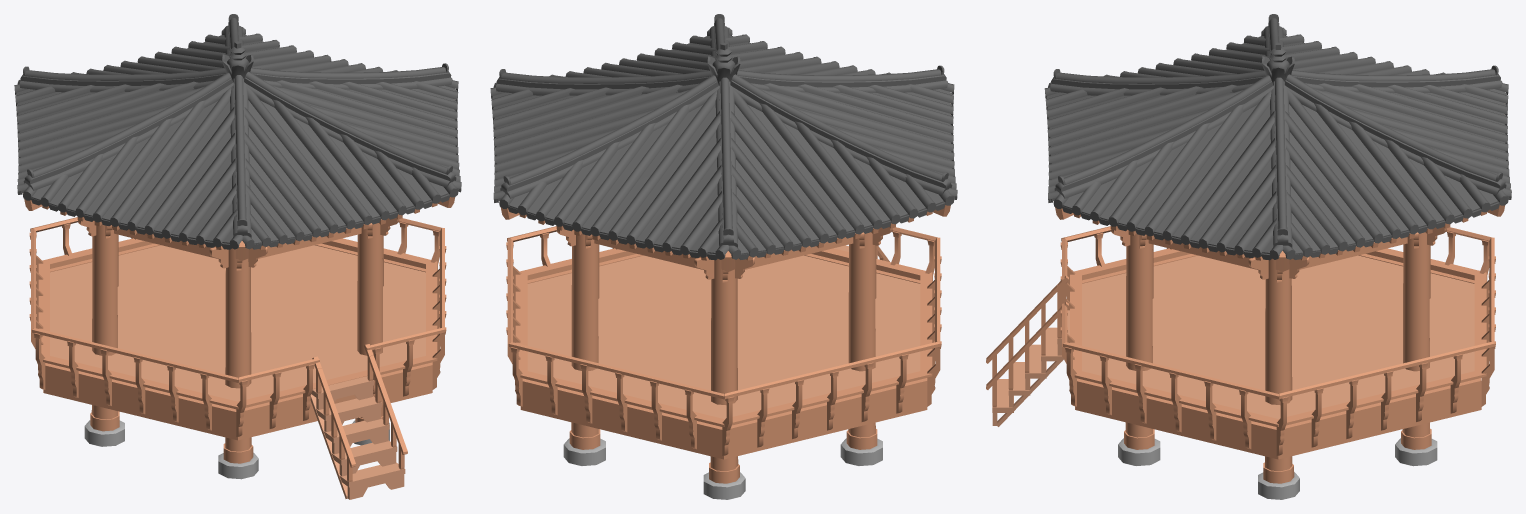
The model's file is Gazebo.fbx.
The picture shows the model from 3 angles, left to right: view 1: azimuth 30°, elevation 25°; view 2: azimuth 150°, elevation 25°; view 3: azimuth 270°, elevation 25°; orthographic projection. The views are drawn at different scales.
Parts seen in each view (by area): view 1: Gazebo; view 2: Gazebo; view 3: Gazebo.
Boxes of the visible parts, x1,y1,x2,y2 form: Gazebo: (14,14,461,499); Gazebo: (490,14,957,499); Gazebo: (986,14,1511,499).
Size of the model in its own units: 589 by 464 by 582.
